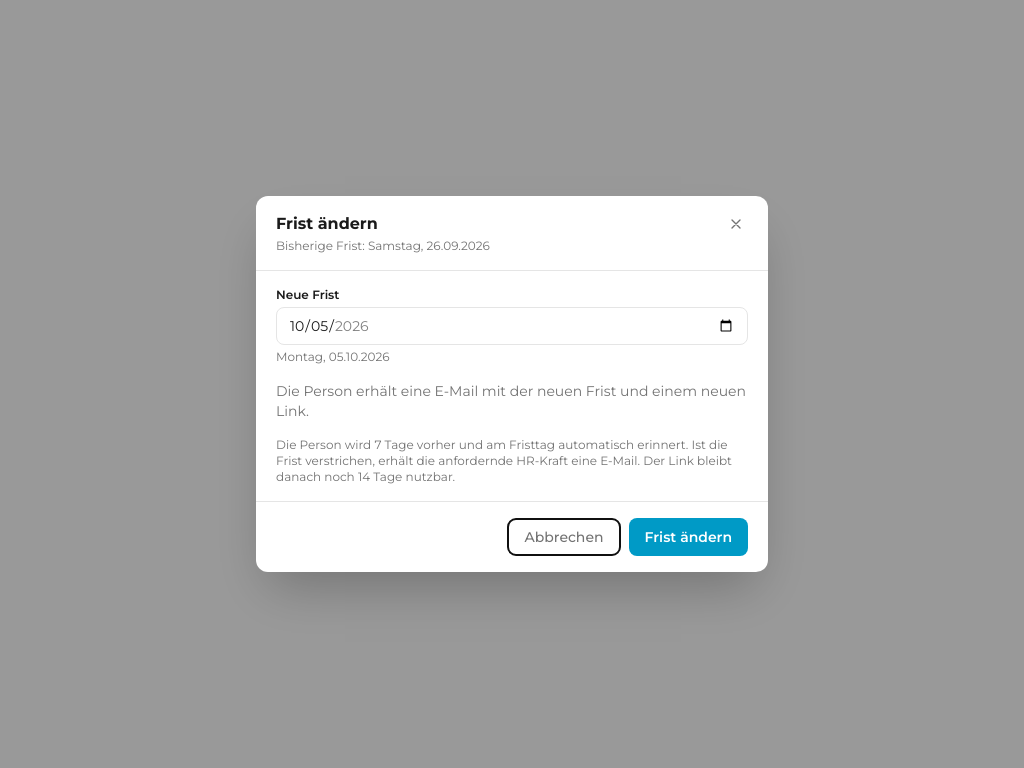
it: Frist ändern › dieselbe Frist sperrt mit dem Text des Servers
Type "2026-09-26" into the date field labelled "Neue Frist". click: (512, 326)
box: [276,307,748,345]
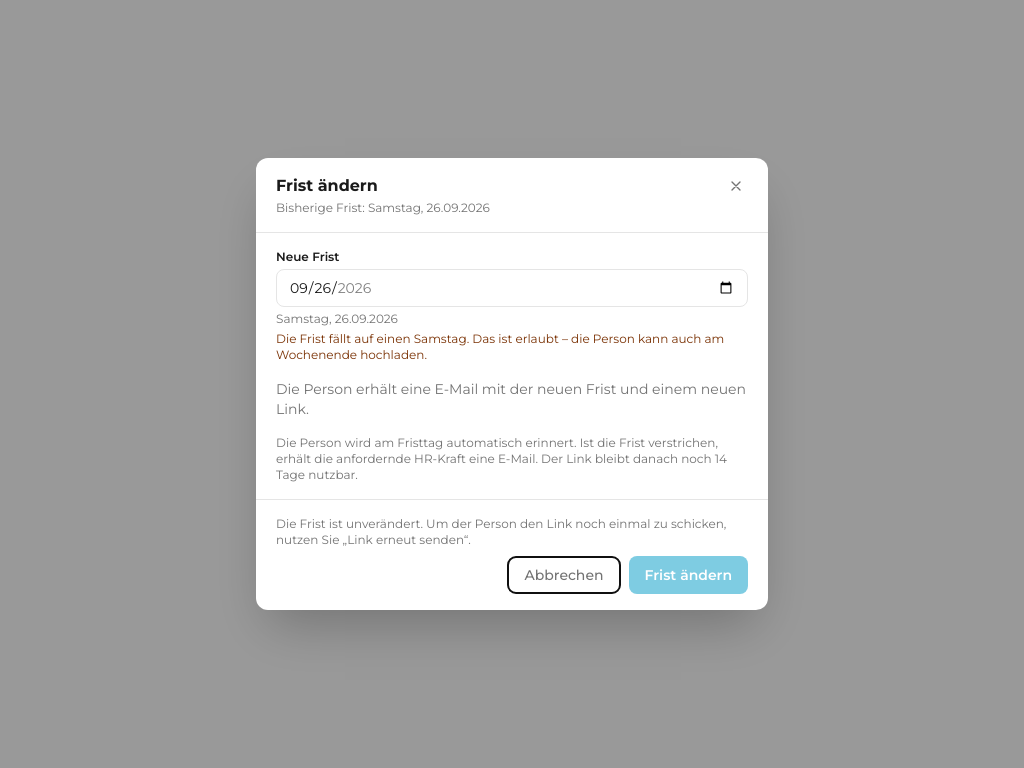
expect the button "Frist ändern" is disabled: met, box [628,556,748,594]
expect the text "Die Frist ist unverändert. Um der Person den Link noch einmal zu schicken, nutzen Sie „Link erneut senden“." is shown: met, box [276,516,726,547]
